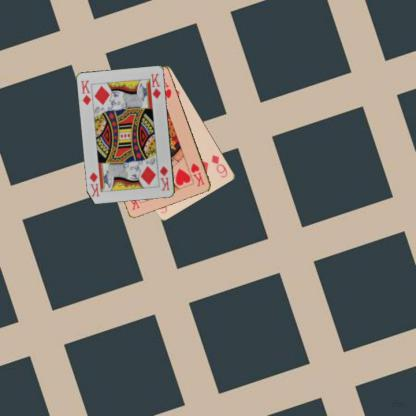6d: (209, 153, 229, 179)
Kd: (157, 163, 171, 192), (78, 78, 92, 106)
Kh: (188, 160, 206, 188)
